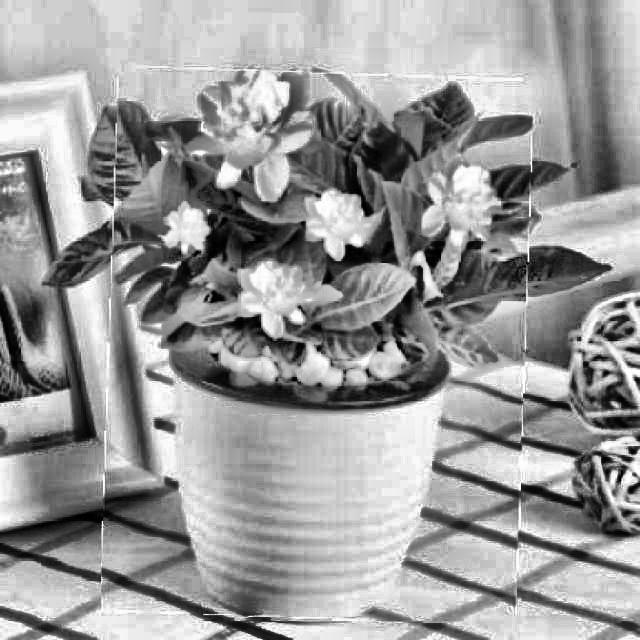plants: (104, 70, 530, 622)
